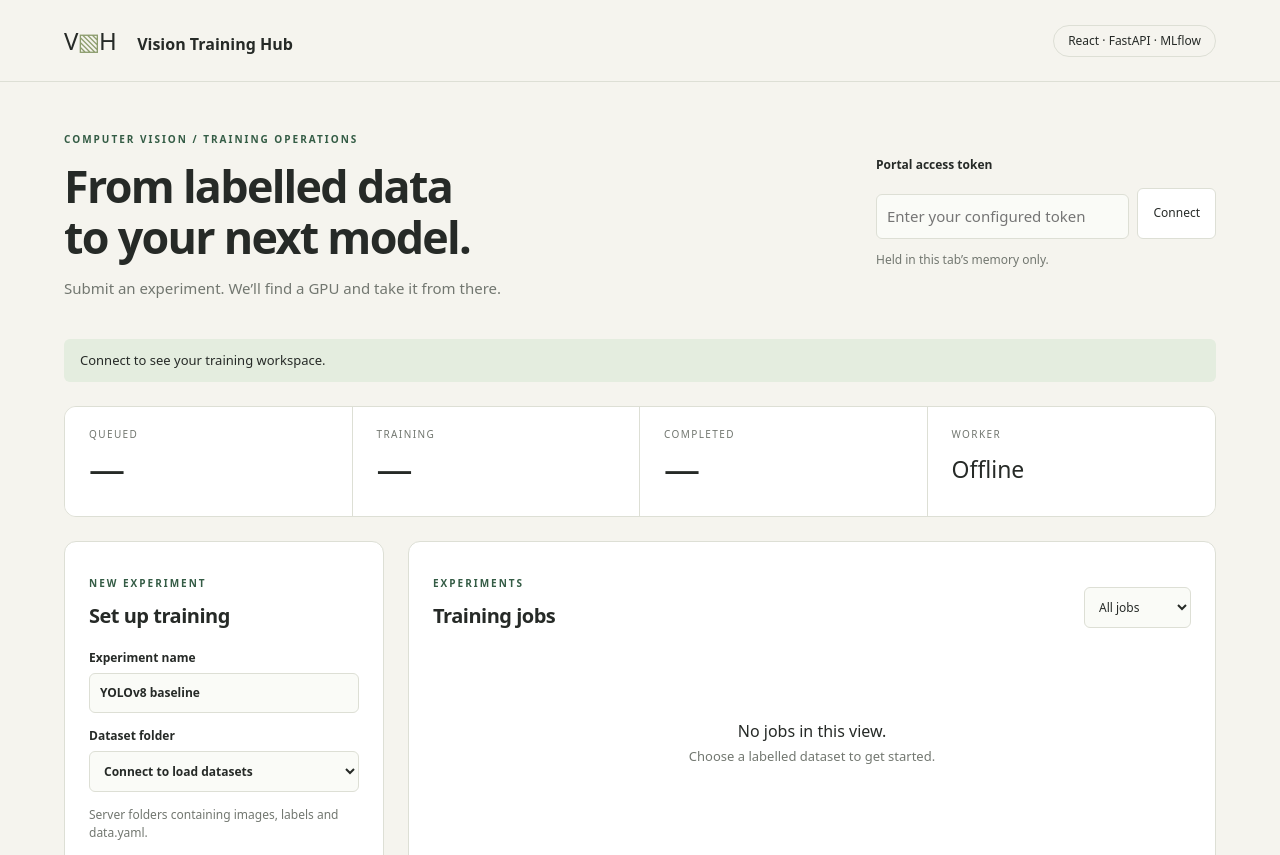
Test: React training portal › shows dataset validation errors
Type "local-token" into the password field labelled "Portal access token".
click(1003, 216); type("local-token")  # box [876,194,1130,239]
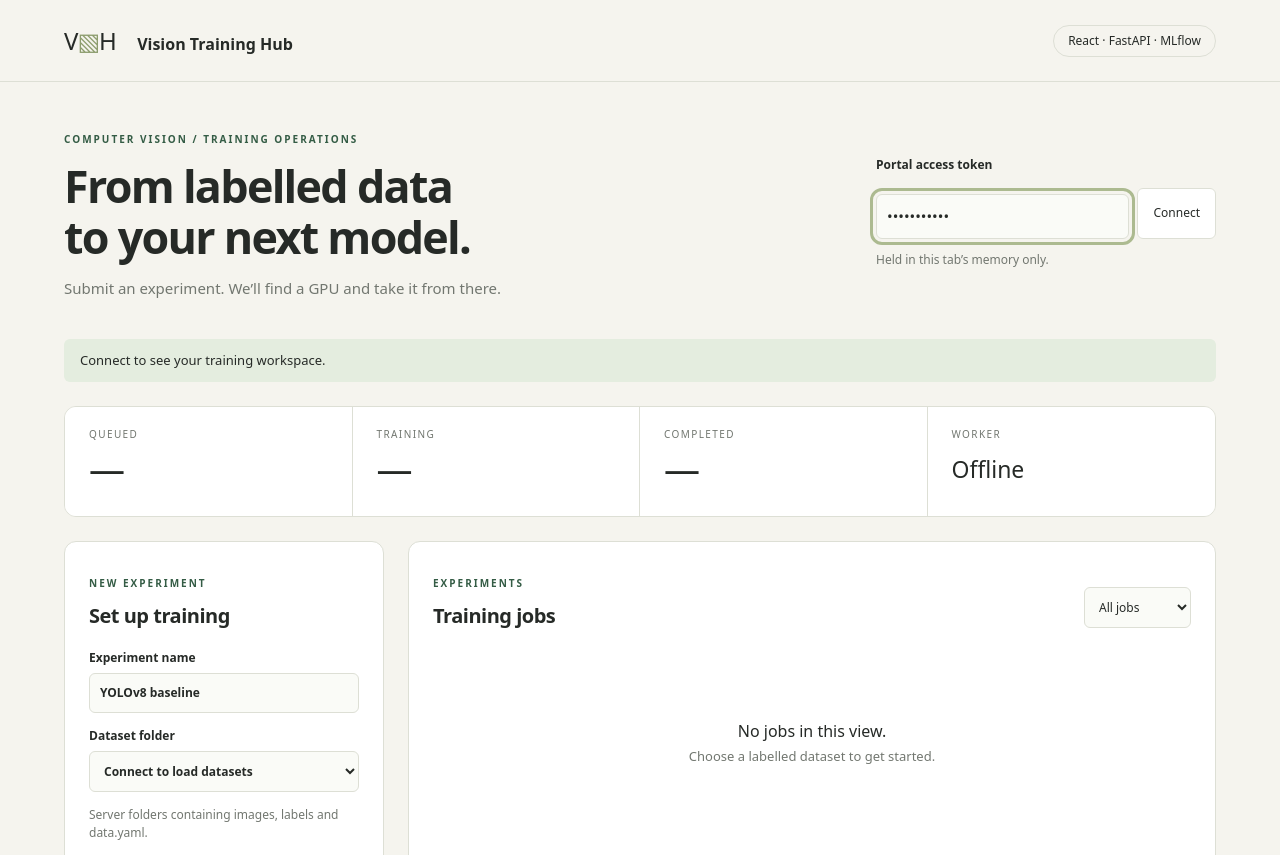
Click the button "Connect".
click(1177, 213)  # box [1138,188,1216,239]
(page scrolled)
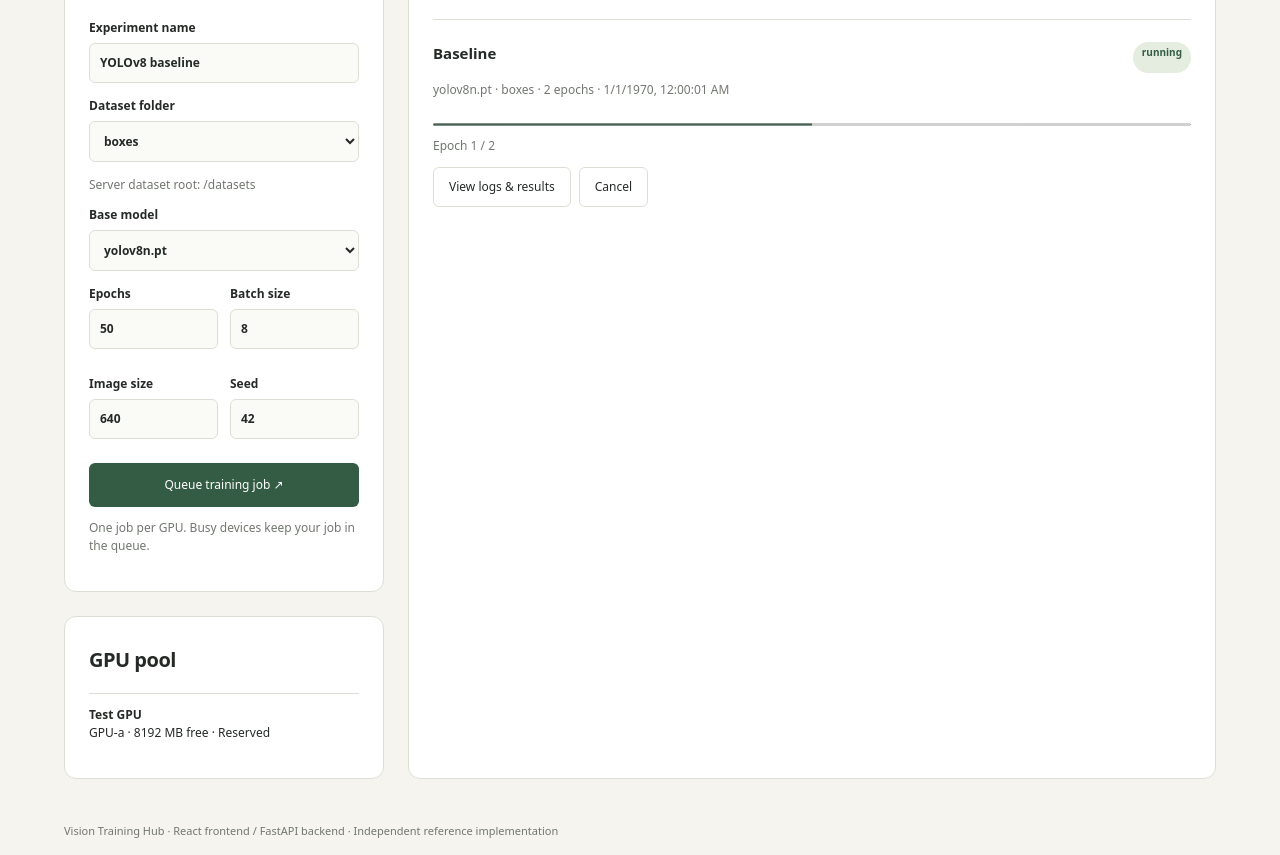
Now the heading "Baseline" is shown, box [433,42,496,65]
Click the button "Queue training job ↗".
click(224, 485)  # box [89,463,359,507]
(page scrolled)
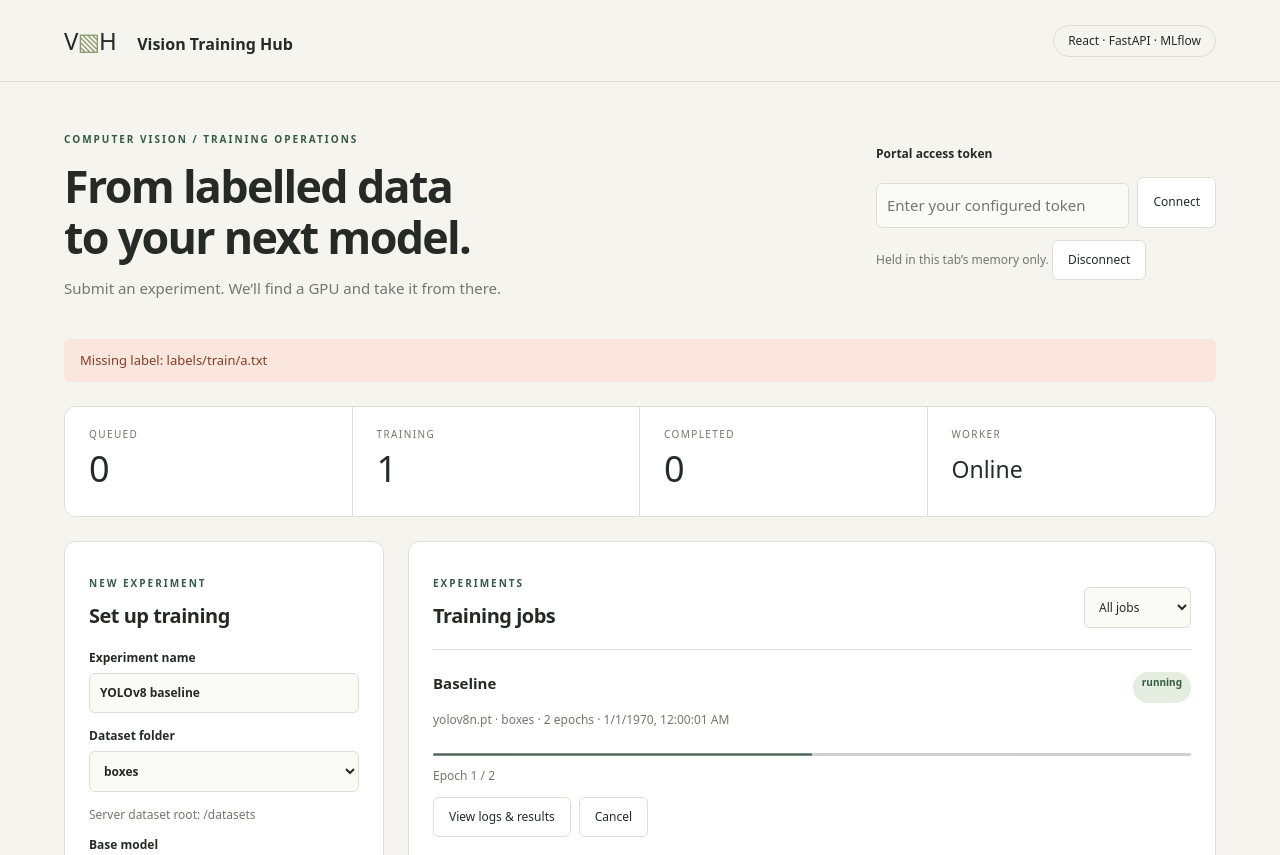
Now the message shows "Missing label", box [80,351,267,369]
